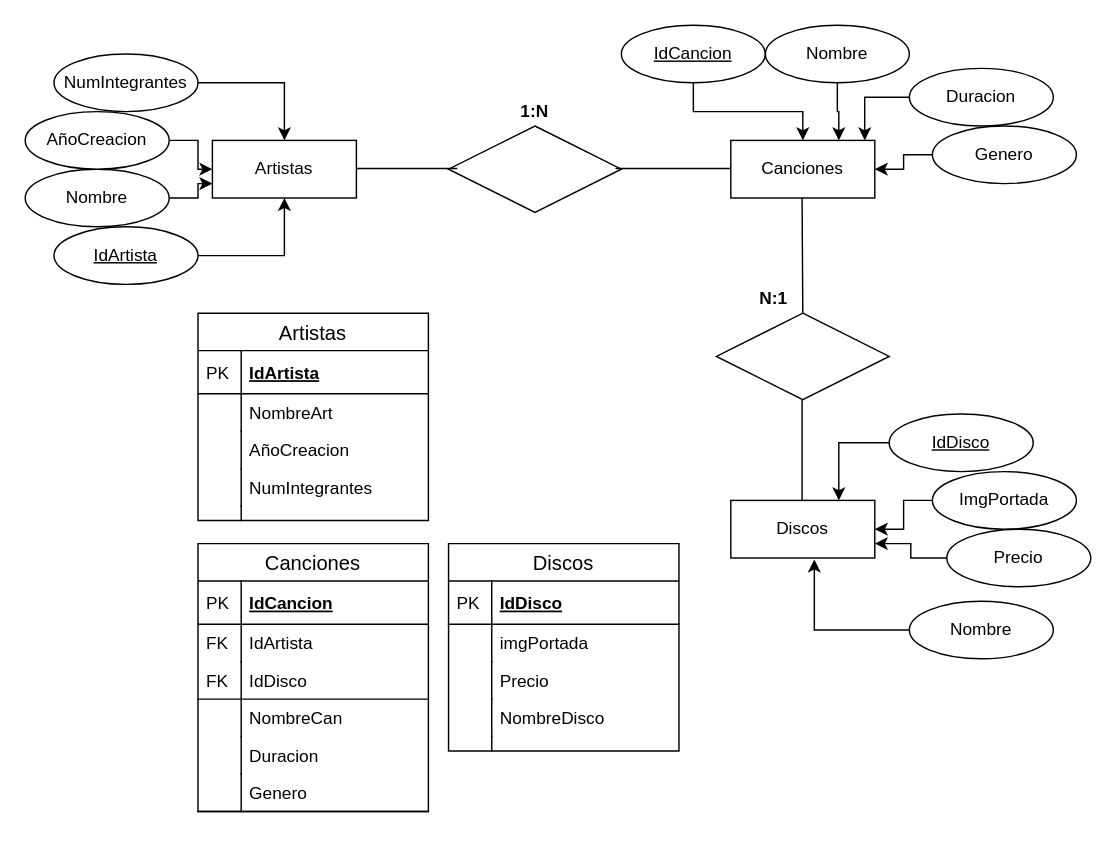
The diagram is 1116 pixels wide and 841 high, and some of its shapes have lost their labels. The centre of each missing label's shape, as x and y in pixels:
"crean" goes at [534,168].
"pertenecen a" goes at [802,356].
